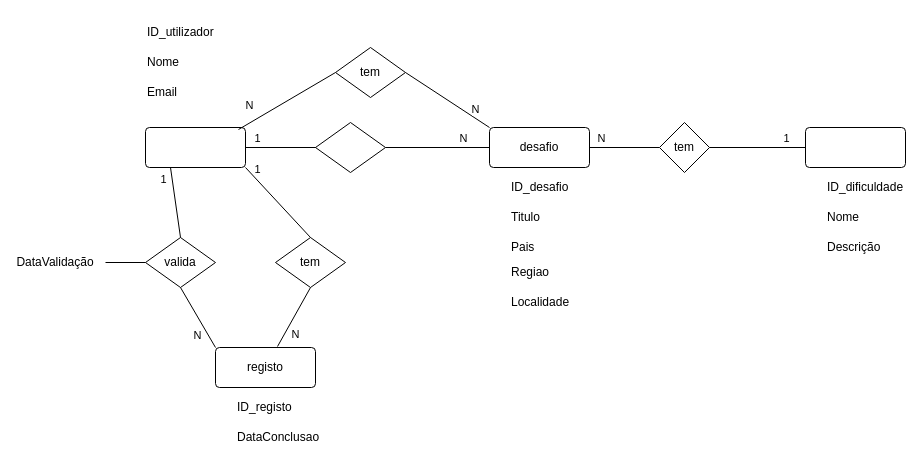
Image size: 923x469. Some labels were removed from this diagram. The shapes that lost their labels are listed below. From the top down, each one's box as (x1, y1, x2, y2) in pixels, then its label:
(144, 126, 246, 168): utilizador
(314, 122, 386, 172): cria
(804, 126, 906, 168): dificuldade
